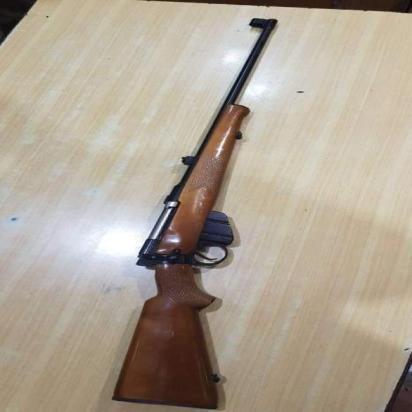Gun: (106, 16, 283, 412)
